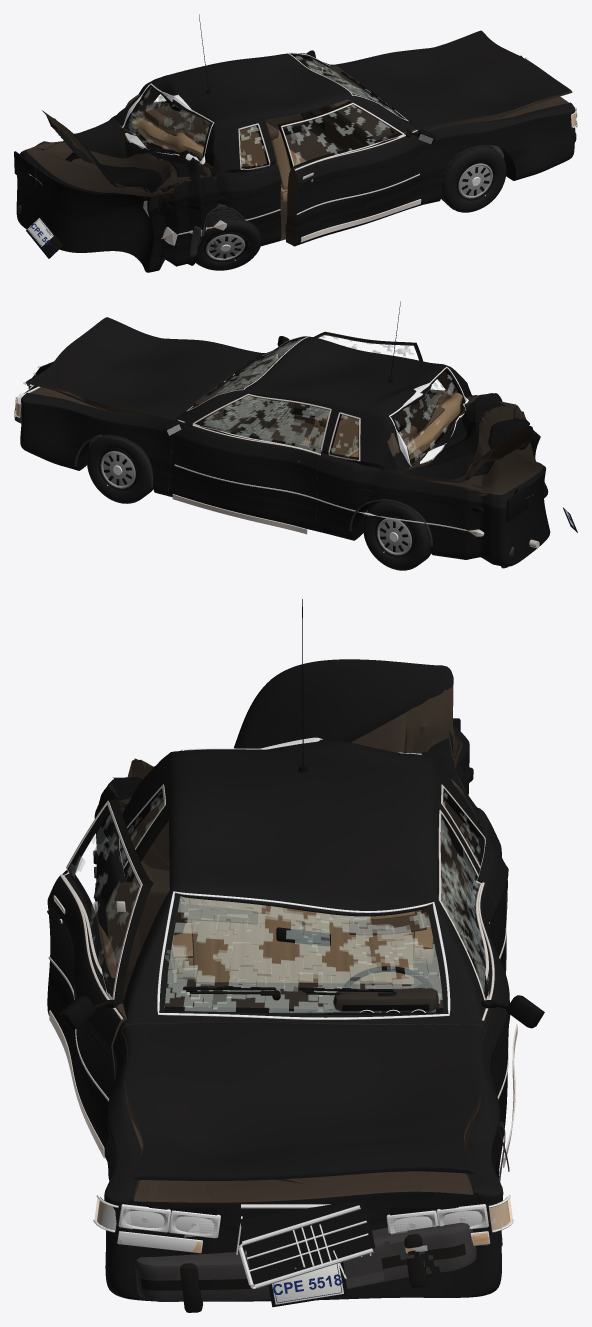
Rendered from coupe84_rear_corner_R_d2.glb.
The picture shows the model from 3 angles, top to bottom: view 1: azimuth 30°, elevation 25°; view 2: azimuth 150°, elevation 25°; view 3: azimuth 270°, elevation 25°; orthographic projection. The views are drawn at different scales.
Parts seen in each view (by area): view 1: Body, Hood, Door_FR, Interior, Trunk, Wheel_FR_mesh, Glass, Wheel_RR_mesh, Trim_FR, Trim, Ends, Glass_FR (+1 smaller); view 2: Body, Hood, Door_FL, Interior, Trunk, Wheel_RL_mesh, Wheel_FL_mesh, Glass, Glass_FL, Trim_FL, Trim, Door_FR (+2 smaller); view 3: Body, Hood, Interior, Glass, Ends, Trunk, Door_FR, Bumper_F, Door_FL, Trim_FR, Trim, Trim_FL (+3 smaller).
Part boxes in pixels (box(x1,y1,x2,y2)): Body: box(16, 53, 574, 272); Hood: box(333, 30, 572, 130); Door_FR: box(278, 101, 424, 246); Interior: box(132, 65, 397, 201); Trunk: box(42, 110, 212, 192); Wheel_FR_mesh: box(441, 144, 506, 212); Glass: box(122, 52, 408, 170); Wheel_RR_mesh: box(195, 209, 261, 270); Trim_FR: box(281, 103, 435, 242); Trim: box(158, 14, 394, 257); Ends: box(14, 55, 577, 258); Glass_FR: box(280, 103, 401, 171); Body: box(20, 336, 550, 566); Hood: box(25, 317, 263, 422); Door_FL: box(169, 393, 332, 531); Interior: box(193, 360, 462, 459); Trunk: box(401, 393, 533, 482); Wheel_RL_mesh: box(363, 501, 431, 570); Wheel_FL_mesh: box(87, 434, 153, 503); Glass: box(186, 335, 468, 466); Glass_FL: box(196, 394, 330, 455); Trim_FL: box(163, 393, 331, 534); Trim: box(74, 301, 484, 546); Door_FR: box(266, 331, 422, 431); Body: box(94, 726, 507, 1301); Hood: box(122, 1022, 485, 1180); Interior: box(165, 896, 442, 1012); Glass: box(124, 737, 482, 1019); Ends: box(93, 718, 514, 1307); Trunk: box(108, 659, 476, 807); Door_FR: box(47, 799, 153, 1161); Bumper_F: box(135, 1222, 476, 1312); Door_FL: box(437, 808, 509, 1161); Trim_FR: box(47, 801, 142, 1158); Trim: box(93, 599, 509, 1245); Trim_FL: box(438, 809, 544, 1167).
Bounding box in the file's own units: 5.33 × 2.18 × 2.18.
Materials: 34 (5 with a texture image).
